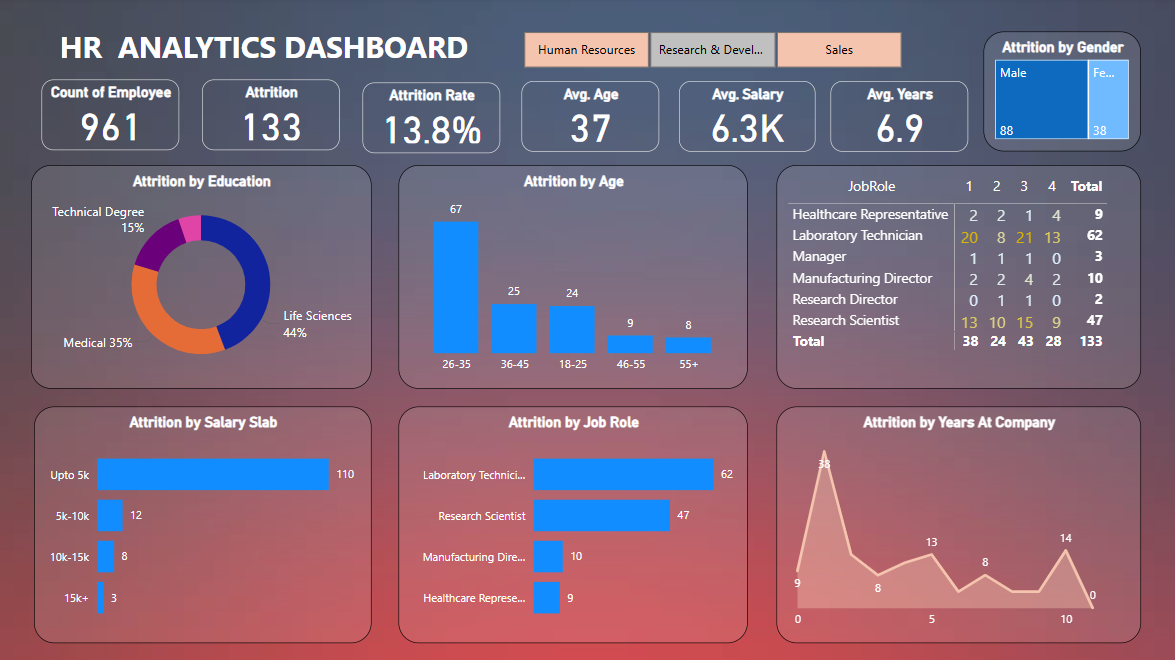

Layout of this report page (visuals, bound fields, positions):
{"tool":"powerbi","page":{"name":"Page 1","canvas":[1280,720],"ordinal":0},"visuals":[{"type":"card","title":"Count of Employee","fields":{"Values":["CountNonNull(HR_Analytics (2).EmpID)"]},"box":[47.2,89.5,149.6,76.4],"z":0},{"type":"card","title":"Attrition Rate","fields":{"Values":["HR_Analytics (2).AttriritionRate"]},"box":[395.3,92.7,149.6,76.4],"z":1000},{"type":"card","title":"Attrition  ","fields":{"Values":["Sum(HR_Analytics (2).Attrition - Copy)"]},"box":[221.2,89.5,149.6,76.4],"z":2000},{"type":"card","title":"Avg. Age","fields":{"Values":["Avg(HR_Analytics (2).Age)"]},"box":[567.7,91.1,149.6,76.4],"z":3000},{"type":"card","title":"Avg. Salary","fields":{"Values":["Avg(HR_Analytics (2).MonthlyIncome)"]},"box":[738.5,91.1,148,76.4],"z":4000},{"type":"card","title":"Avg. Years","fields":{"Values":["Avg(HR_Analytics (2).YearsAtCompany)"]},"box":[902.7,91.1,149.6,76.4],"z":5000},{"type":"donutChart","title":"Attrition by Education","fields":{"Category":["HR_Analytics (2).EducationField"],"Y":["Sum(HR_Analytics (2).Attrition - Copy)"]},"box":[35.8,182.2,369.2,242.4],"z":6000},{"type":"columnChart","title":"Attrition by Age","fields":{"Category":["HR_Analytics (2).AgeGroup"],"Y":["Sum(HR_Analytics (2).Attrition - Copy)"]},"box":[434.3,182.2,379,242.4],"z":7000},{"type":"pivotTable","fields":{"Rows":["HR_Analytics (2).JobRole"],"Columns":["HR_Analytics (2).JobSatisfaction"],"Values":["Sum(HR_Analytics (2).Attrition - Copy)"]},"box":[844.2,182.2,395.3,242.4],"z":8000},{"type":"barChart","title":"Attrition by Age","fields":{"Category":["HR_Analytics (2).SalarySlab"],"Y":["Sum(HR_Analytics (2).Attrition - Copy)"]},"box":[39,444,366,257],"z":9000},{"type":"barChart","title":"Attrition by Age","fields":{"Category":["HR_Analytics (2).JobRole"],"Y":["Sum(HR_Analytics (2).Attrition - Copy)"]},"box":[434.3,444,379,257],"z":10000},{"type":"areaChart","title":"Attrition by Age","fields":{"Category":["HR_Analytics (2).YearsAtCompany"],"Y":["Sum(HR_Analytics (2).Attrition - Copy)"]},"box":[844.2,444,395.3,257],"z":11000},{"type":"treemap","title":"Attrition by Age","fields":{"Group":["HR_Analytics (2).Gender"],"Values":["Sum(HR_Analytics (2).Attrition - Copy)"]},"box":[1068.6,37.4,170.8,130.1],"z":12000},{"type":"slicer","fields":{"Values":["HR_Analytics (2).Department"]},"box":[544.9,30.9,458.7,52],"z":13000},{"type":"textbox","box":[61.8,26,496.1,76.4],"z":14000}]}

Visuals, with their boxes in screenshot pixels (x1, y1, x2, y2), scaled from the page's 1280x720 canvas onto the 1175x660 screenshot:
"Count of Employee" card: BBox(43, 82, 181, 152)
"Attrition Rate" card: BBox(363, 85, 500, 155)
"Attrition  " card: BBox(203, 82, 340, 152)
"Avg. Age" card: BBox(521, 84, 658, 154)
"Avg. Salary" card: BBox(678, 84, 814, 154)
"Avg. Years" card: BBox(829, 84, 966, 154)
"Attrition by Education" donutChart: BBox(33, 167, 372, 389)
"Attrition by Age" columnChart: BBox(399, 167, 747, 389)
pivotTable - HR_Analytics (2).JobRole x HR_Analytics (2).JobSatisfaction: BBox(775, 167, 1138, 389)
"Attrition by Age" barChart: BBox(36, 407, 372, 643)
"Attrition by Age" barChart: BBox(399, 407, 747, 643)
"Attrition by Age" areaChart: BBox(775, 407, 1138, 643)
"Attrition by Age" treemap: BBox(981, 34, 1138, 154)
slicer - HR_Analytics (2).Department: BBox(500, 28, 921, 76)
textbox: BBox(57, 24, 512, 94)
